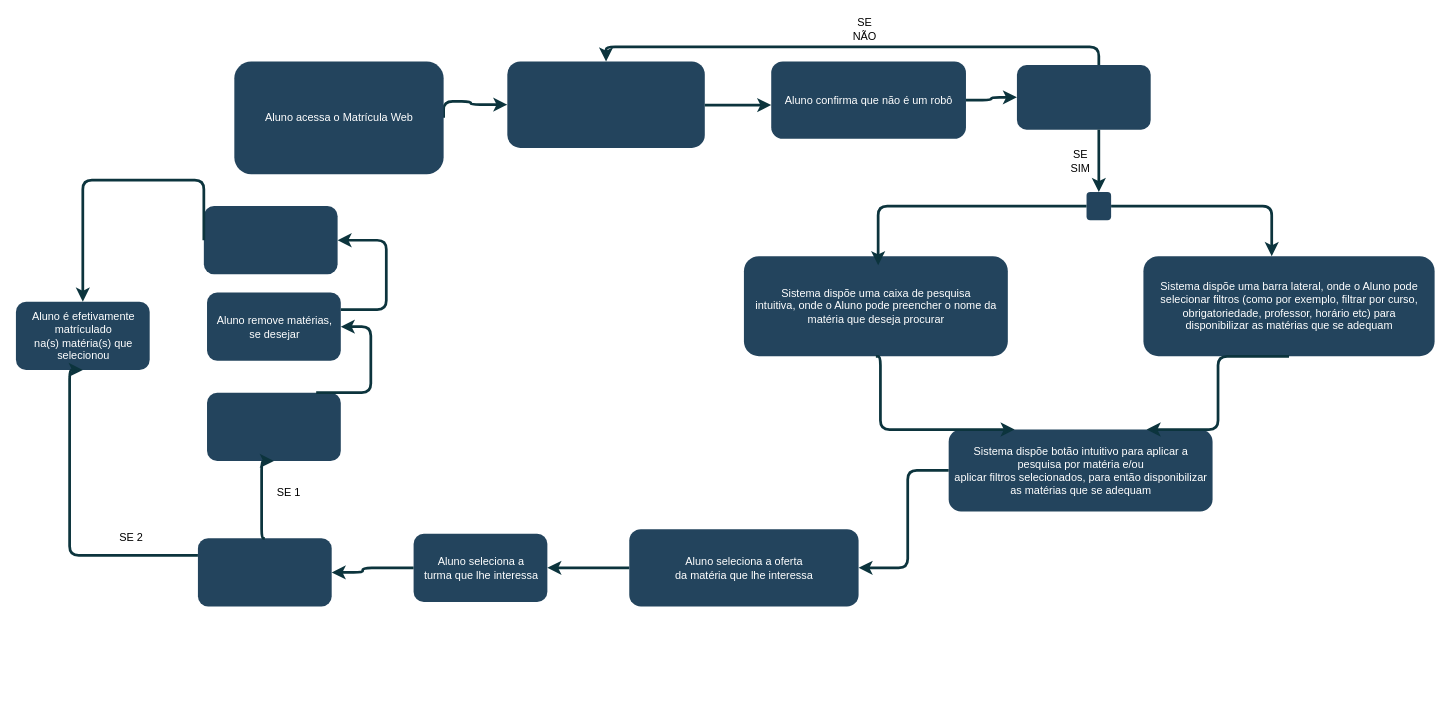
Image size: 1450x726. Some labels were removed from this diagram. Each missing label, with the box of its shape:
Aluno escolhe clicar em 1 - Adicionar matéria ou 2 - Confirmar matrícula: (197, 538, 331, 606)
Aluno preenche sua matrícula e senha: (507, 61, 704, 147)
Aluno seleciona botão para confirmar Matrícula: (203, 206, 337, 274)
Aluno vai ao menu "Confirmar Matrícula": (207, 392, 340, 460)
Sistema valida credenciais do aluno: (1016, 65, 1150, 129)
